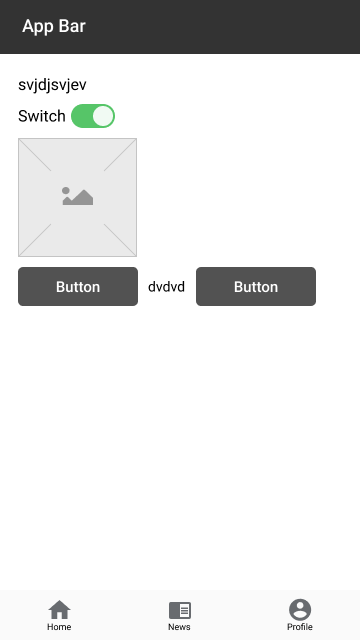button: (192, 263, 320, 308), (16, 265, 140, 308)
imageView: (15, 135, 139, 258)
navigationButton: (1, 591, 359, 638)
switch: (15, 105, 116, 131)
textView: (15, 74, 89, 96), (147, 277, 187, 294)
toolbar: (1, 1, 360, 54)
